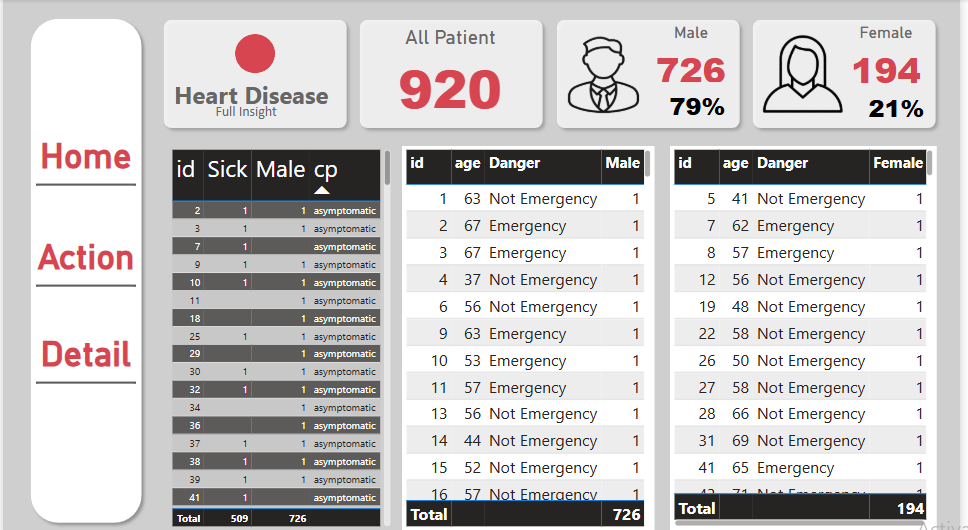

This screenshot's page, from the dashboard's own definition file:
{"tool":"powerbi","page":{"name":"Action","canvas":[1280,720],"ordinal":1},"visuals":[{"type":"shape","box":[27.7,18,166.2,692.6],"z":0},{"type":"shape","box":[205.7,18.6,262.9,162.9],"z":1000},{"type":"shape","box":[468.6,18.6,262.9,162.9],"z":2000},{"type":"shape","box":[731.4,18.6,262.9,162.9],"z":3000},{"type":"shape","box":[994.3,18.6,262.9,162.9],"z":4000},{"type":"textbox","box":[220,100,234.3,62.9],"z":5000},{"type":"textbox","box":[220,134.3,211.4,62.9],"z":6000},{"type":"shape","box":[310,47.5,53.8,52.5],"z":7000},{"type":"cardVisual","title":"All Patient","fields":{"Data":["measured Data.All Patient"]},"box":[494.3,35.2,209.8,131],"z":8000},{"type":"cardVisual","title":"Male","fields":{"Data":["measured Data.Male"]},"box":[863.2,32.4,115.5,84.5],"z":9000},{"type":"cardVisual","fields":{"Data":["measured Data.% male"]},"box":[871.3,113.6,116.4,62.3],"z":10000},{"type":"cardVisual","title":"Female","fields":{"Data":["measured Data.Female"]},"box":[1123.9,32.4,115.3,98.5],"z":11000},{"type":"cardVisual","fields":{"Data":["measured Data.% female"]},"box":[1137.3,116.4,116.4,62.3],"z":12000},{"type":"image","box":[731.4,34.6,139.9,134.4],"z":13000},{"type":"image","box":[994.6,23.5,152.4,152.4],"z":14000},{"type":"tableEx","fields":{"Values":["heart_disease_uci.id","measured Data.Sick","measured Data.Male","heart_disease_uci.cp"]},"box":[220.3,196.7,303.4,513.9],"z":15000},{"type":"tableEx","fields":{"Values":["heart_disease_uci.id","heart_disease_uci.age","heart_disease_uci.Danger","measured Data.Male"]},"box":[533.3,196.7,338,513.9],"z":16000},{"type":"tableEx","fields":{"Values":["heart_disease_uci.id","heart_disease_uci.age","heart_disease_uci.Danger","measured Data.Female"]},"box":[892.1,196.7,357.4,513.9],"z":17000},{"type":"actionButton","title":"Home","box":[44.2,182,133.8,68.3],"z":17001},{"type":"actionButton","title":"Action","box":[44.2,317.2,133.8,68.3],"z":17002},{"type":"actionButton","title":"Detail","box":[44.2,447,133.8,68.3],"z":17003}]}

Visuals, with their boxes in screenshot pixels (x1, y1, x2, y2), scaled from the page's 1280x720 canvas onto the 968x530 screenshot:
shape: <bbox>21, 13, 147, 523</bbox>
shape: <bbox>156, 14, 354, 134</bbox>
shape: <bbox>354, 14, 553, 134</bbox>
shape: <bbox>553, 14, 752, 134</bbox>
shape: <bbox>752, 14, 951, 134</bbox>
textbox: <bbox>166, 74, 344, 120</bbox>
textbox: <bbox>166, 99, 326, 145</bbox>
shape: <bbox>234, 35, 275, 74</bbox>
"All Patient" cardVisual: <bbox>374, 26, 532, 122</bbox>
"Male" cardVisual: <bbox>653, 24, 740, 86</bbox>
cardVisual - measured Data.% male: <bbox>659, 84, 747, 129</bbox>
"Female" cardVisual: <bbox>850, 24, 937, 96</bbox>
cardVisual - measured Data.% female: <bbox>860, 86, 948, 132</bbox>
image: <bbox>553, 25, 659, 124</bbox>
image: <bbox>752, 17, 867, 129</bbox>
tableEx - heart_disease_uci.id x measured Data.Sick: <bbox>167, 145, 396, 523</bbox>
tableEx - heart_disease_uci.id x heart_disease_uci.age: <bbox>403, 145, 659, 523</bbox>
tableEx - heart_disease_uci.id x heart_disease_uci.age: <bbox>675, 145, 945, 523</bbox>
"Home" actionButton: <bbox>33, 134, 135, 184</bbox>
"Action" actionButton: <bbox>33, 233, 135, 284</bbox>
"Detail" actionButton: <bbox>33, 329, 135, 379</bbox>
